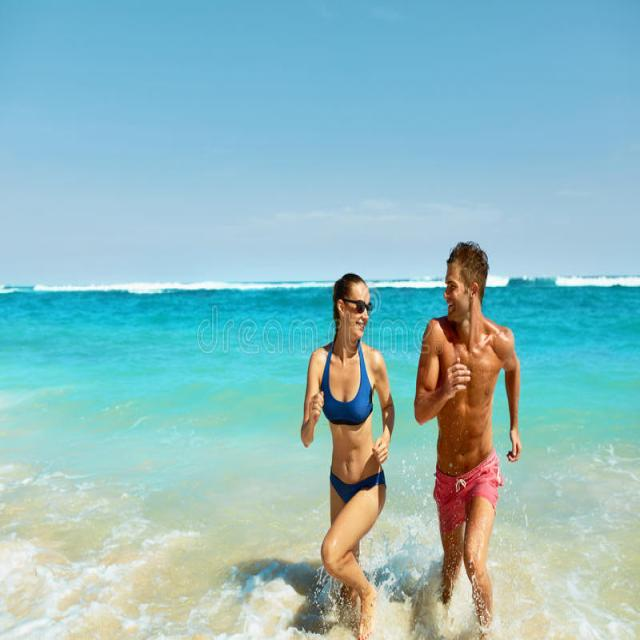running: (412, 241, 522, 640), (300, 271, 398, 640)
